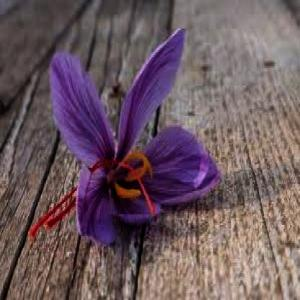Saffron: (48, 26, 216, 242)
